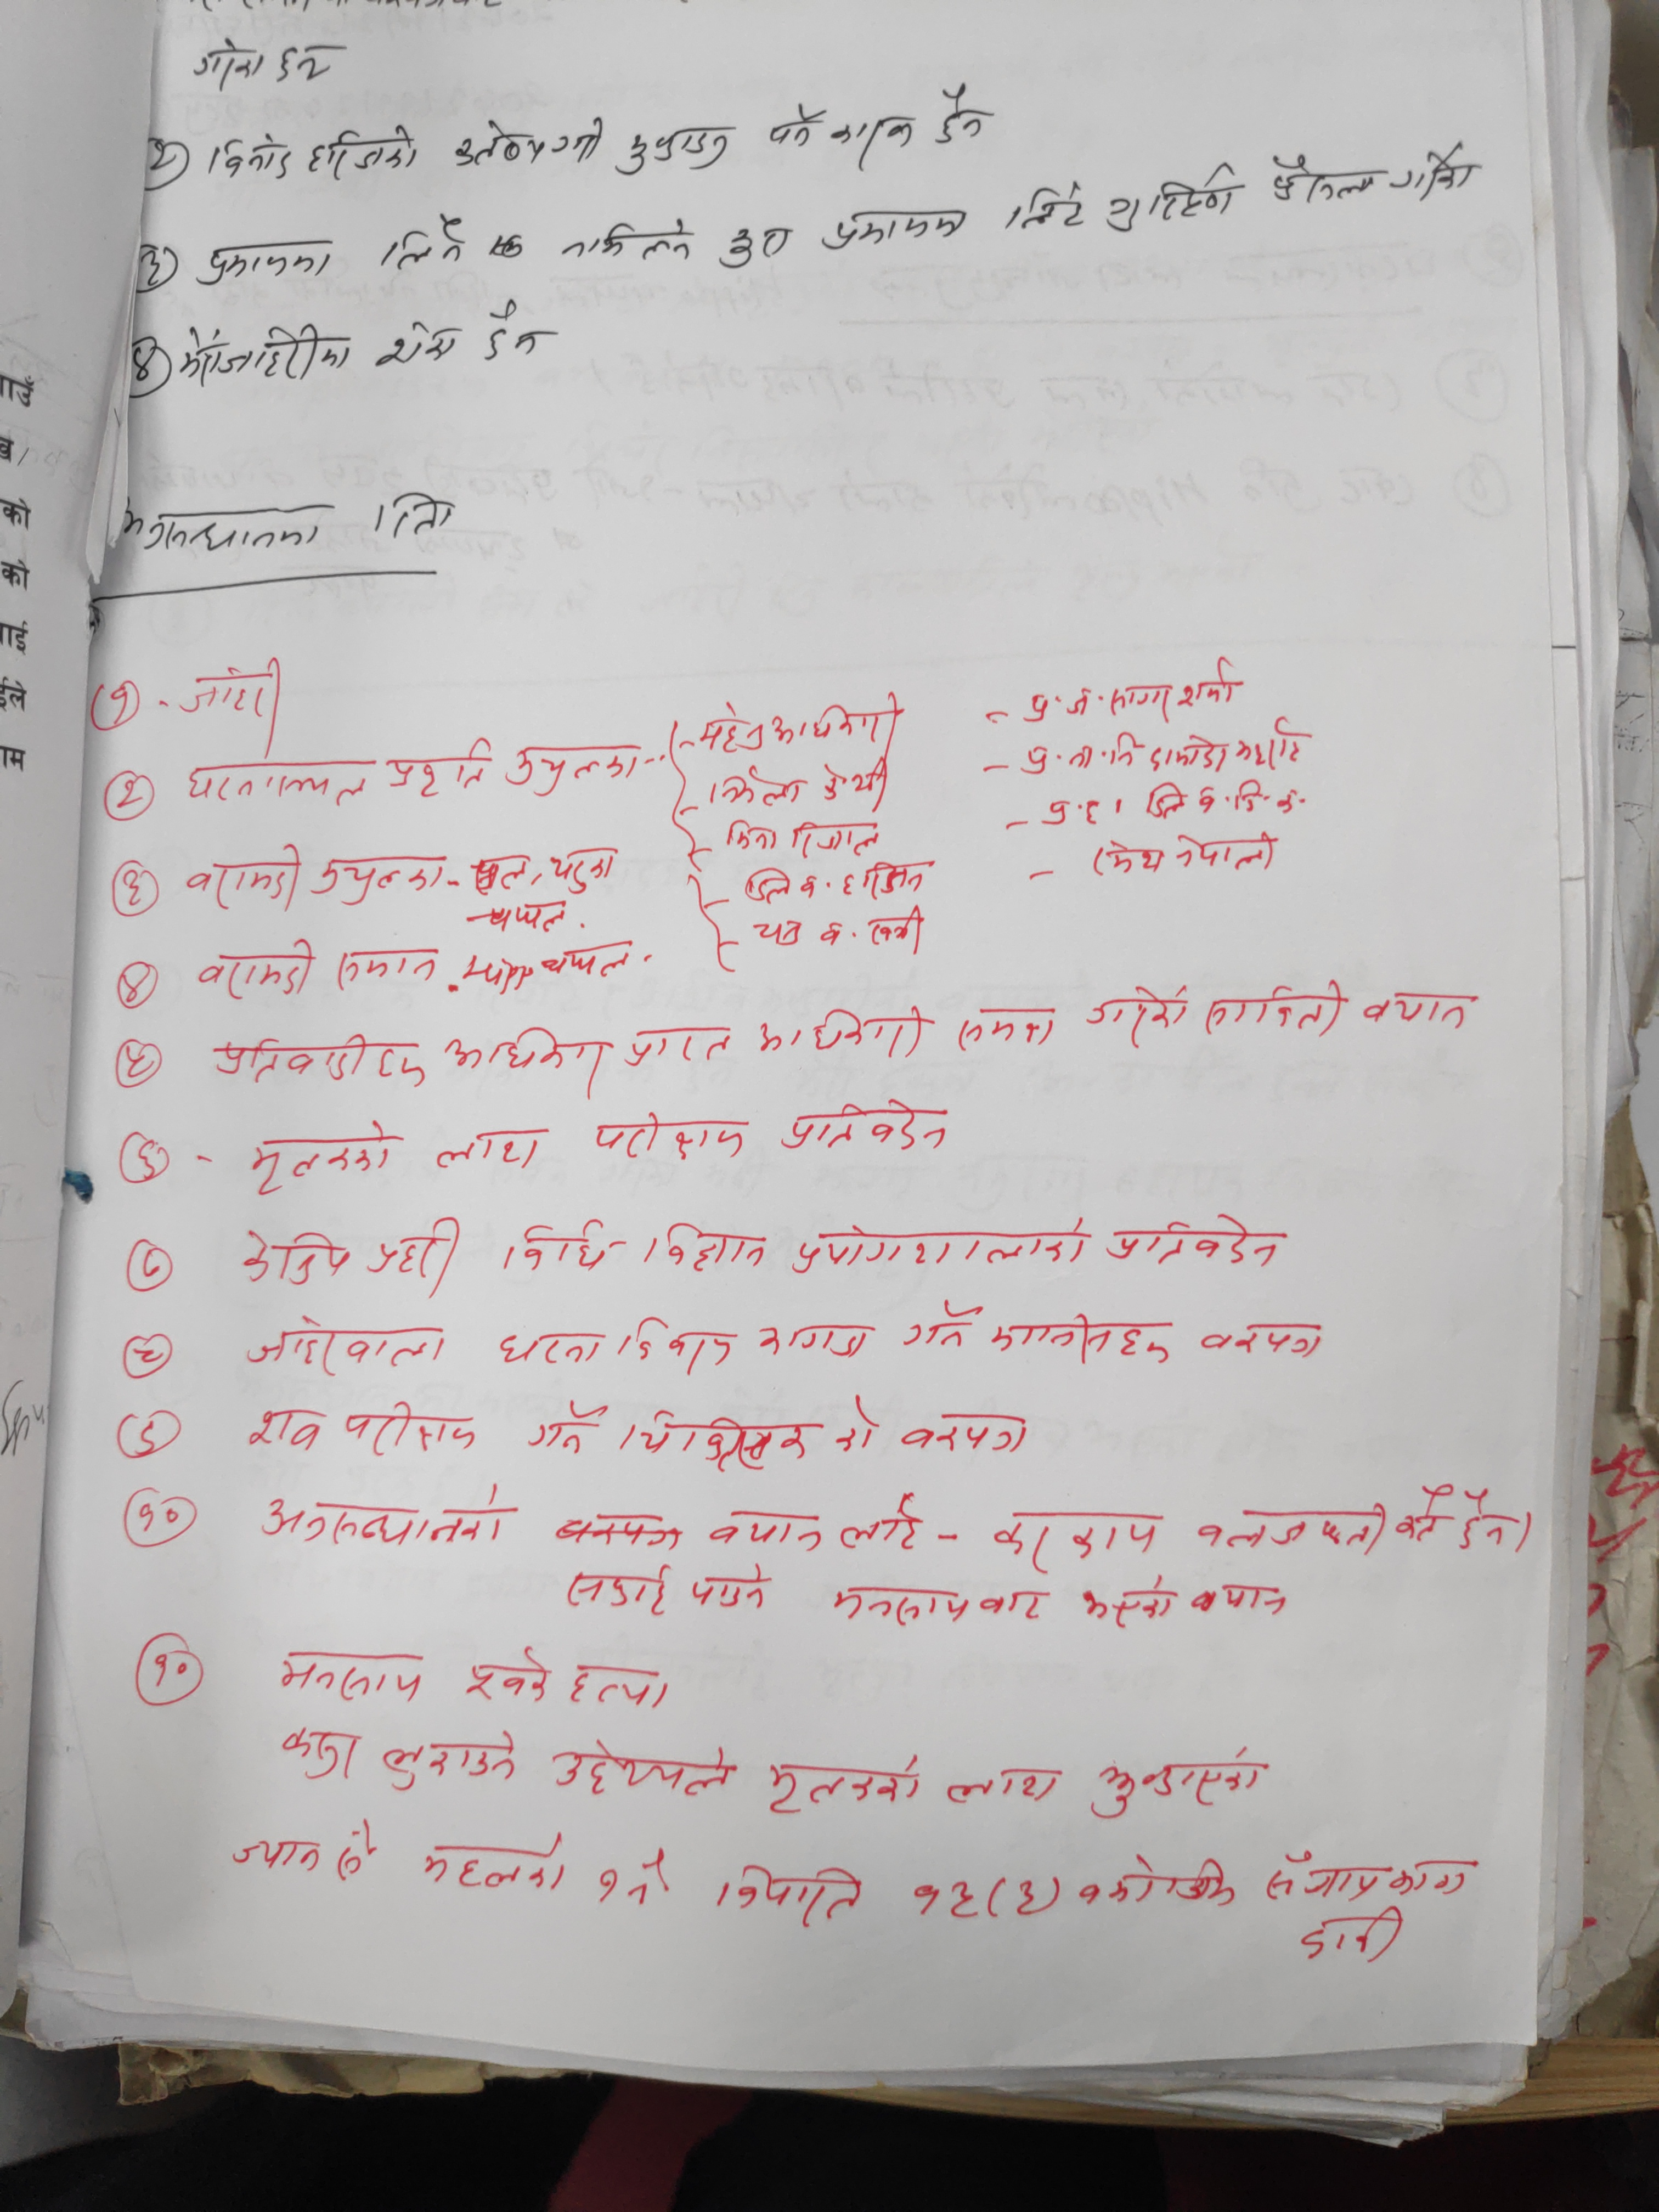text: (788, 1216, 1089, 1271), (263, 1479, 509, 1545), (209, 1033, 429, 1089), (619, 1407, 814, 1470), (1258, 1848, 1485, 1902), (1086, 1756, 1272, 1820), (251, 1116, 399, 1197), (249, 1315, 443, 1376), (1192, 1501, 1389, 1561), (549, 1742, 737, 1803), (990, 1503, 1161, 1569), (1073, 1848, 1237, 1916), (755, 1001, 924, 1066), (1108, 1212, 1291, 1271), (174, 320, 350, 381), (444, 1022, 610, 1087), (986, 1315, 1176, 1371), (1100, 160, 1244, 233), (418, 1829, 563, 1902), (179, 756, 376, 808), (714, 1860, 864, 1928), (762, 1754, 927, 1815), (831, 1581, 1044, 1629), (782, 1099, 951, 1157), (176, 655, 284, 744), (132, 502, 321, 552), (274, 1646, 425, 1709), (380, 1724, 523, 1791), (592, 1104, 751, 1163), (451, 117, 608, 174), (340, 1402, 477, 1463), (1204, 982, 1344, 1040), (192, 937, 317, 1000), (308, 850, 448, 906), (181, 845, 301, 909), (770, 688, 901, 747), (556, 214, 699, 268), (817, 206, 967, 256), (640, 1219, 769, 1277), (505, 742, 638, 798), (1082, 984, 1192, 1050), (615, 1317, 735, 1376), (559, 1559, 676, 1620), (896, 1409, 1035, 1460), (235, 1228, 354, 1287), (706, 1501, 828, 1559), (1297, 1902, 1412, 1963), (383, 737, 495, 799), (1263, 153, 1384, 211), (193, 240, 333, 289), (617, 124, 735, 179), (504, 1219, 615, 1278), (373, 1217, 467, 1287), (1201, 1313, 1328, 1364), (308, 127, 420, 181), (568, 1658, 669, 1717), (1073, 1578, 1183, 1632), (462, 1644, 552, 1709), (331, 942, 446, 993), (836, 1491, 924, 1557), (436, 1125, 549, 1176), (281, 1721, 366, 1787), (943, 1763, 1066, 1808), (380, 209, 469, 272), (1387, 143, 1478, 202), (622, 1026, 735, 1073), (753, 1318, 880, 1360), (206, 132, 295, 192), (1025, 730, 1136, 777), (955, 1001, 1058, 1052), (592, 1848, 673, 1912), (1363, 984, 1474, 1029), (828, 111, 915, 169), (495, 1324, 605, 1369), (1169, 831, 1283, 874), (903, 1299, 985, 1359), (1187, 1576, 1291, 1622), (1110, 653, 1176, 725), (789, 813, 884, 862), (530, 1397, 606, 1456), (371, 320, 460, 371), (694, 695, 765, 758), (1234, 714, 1304, 777), (192, 37, 265, 96), (232, 1831, 321, 1878), (1007, 181, 1089, 232), (706, 768, 809, 808), (538, 937, 633, 981), (692, 1561, 770, 1613), (549, 841, 624, 895), (462, 900, 572, 937), (1453, 1486, 1509, 1557), (483, 300, 547, 361), (932, 82, 990, 150), (1398, 1484, 1453, 1554), (838, 857, 932, 897), (817, 756, 894, 805), (718, 223, 791, 273), (910, 1878, 981, 1928), (1148, 730, 1230, 773), (1084, 840, 1168, 881), (272, 40, 345, 87), (331, 1817, 382, 1885), (247, 1409, 321, 1454), (864, 904, 927, 956), (836, 1388, 884, 1454), (1178, 660, 1239, 711), (765, 101, 824, 152), (467, 852, 532, 895), (1028, 685, 1089, 730), (1039, 794, 1105, 829), (113, 968, 164, 1014), (720, 817, 777, 855), (737, 866, 795, 904), (1004, 1869, 1044, 1923), (749, 914, 805, 949), (145, 1648, 195, 1686), (132, 1498, 181, 1534), (115, 869, 148, 916), (124, 1040, 155, 1089), (101, 683, 131, 725), (129, 1341, 167, 1369), (112, 780, 145, 810), (134, 1143, 160, 1179), (139, 1245, 162, 1287), (134, 1420, 155, 1456)
